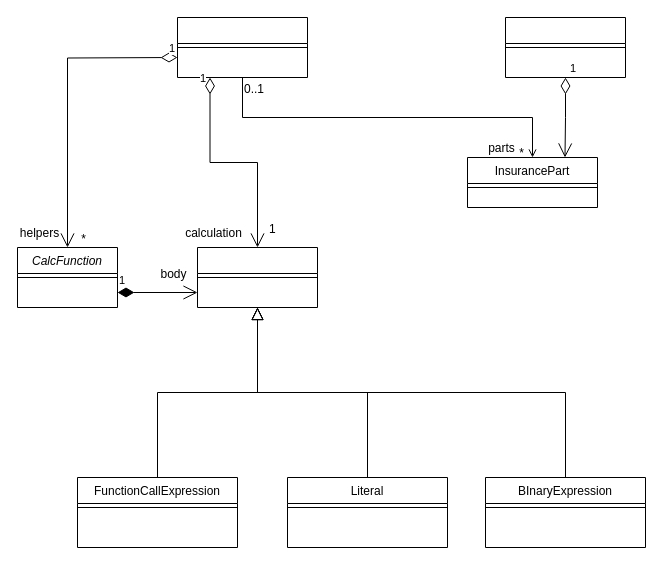
This 663x565 diagram has some shape labels left out. The centre of each missing label's shape, as x and y in pixels:
"BaseProduct" belongs at pixel 565 47.
"DocuExpression" belongs at pixel 257 277.
"InsuranceProduct" belongs at pixel 242 47.
